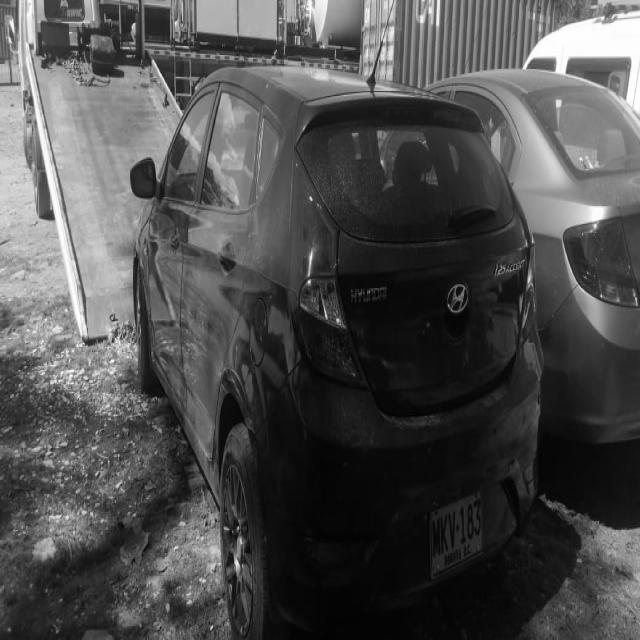plate: (429, 485, 486, 585)
